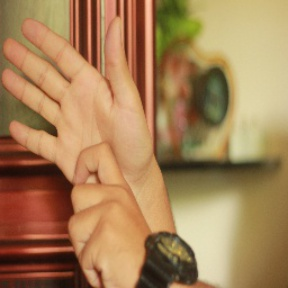R: (1, 15, 149, 268)
